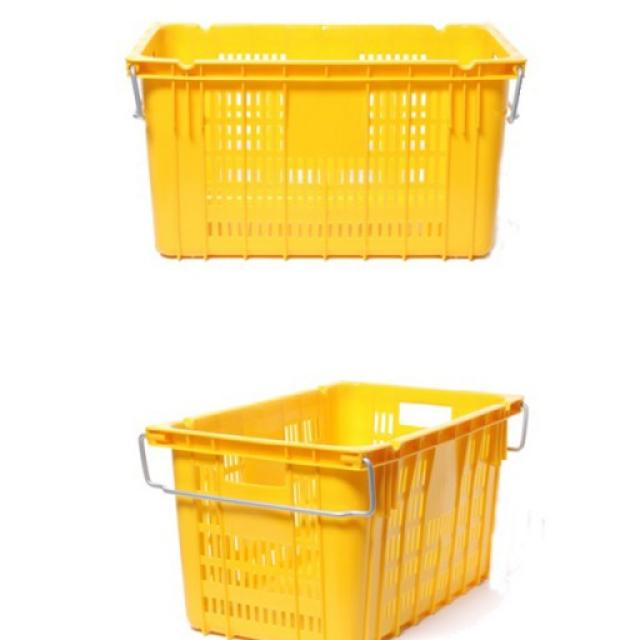basket: (145, 383, 524, 640), (124, 23, 527, 258)
